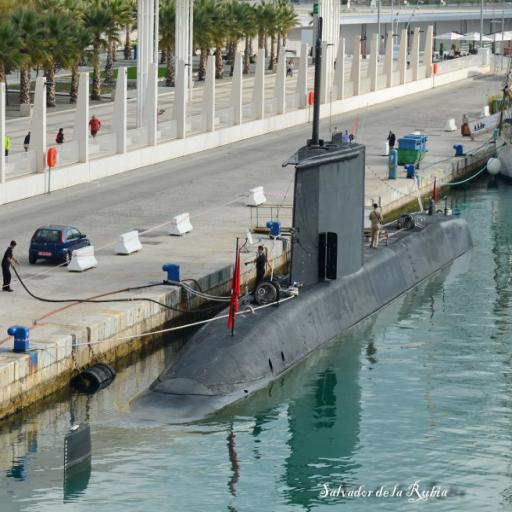submarine: (129, 140, 479, 423)
